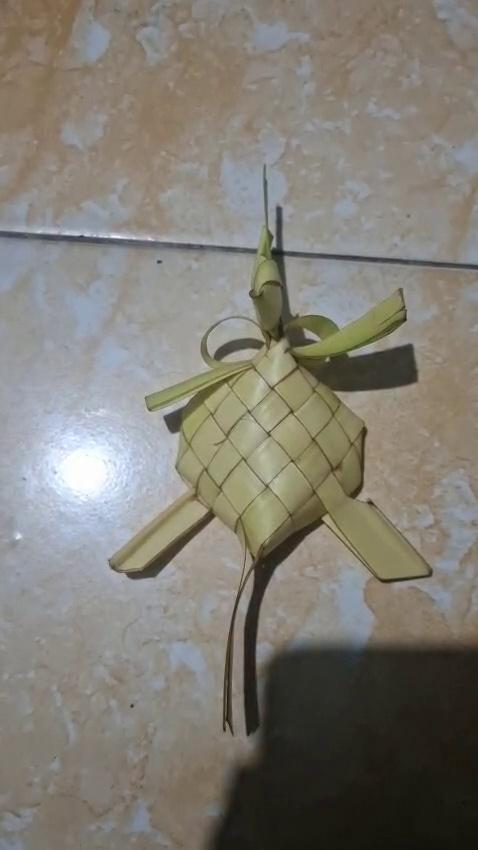Tipat Dampulan: (108, 165, 432, 757)
